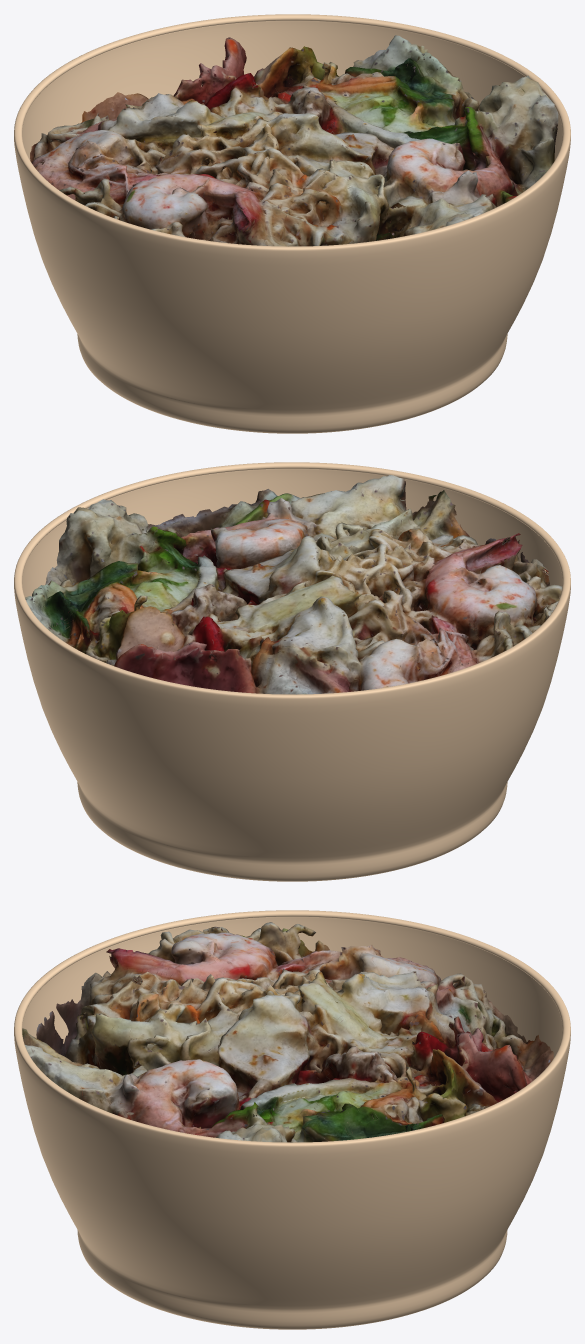
Rendered from noodle_spicy_salad.glb.
3 renders of one model, top to bottom at view 1: azimuth 30°, elevation 25°; view 2: azimuth 150°, elevation 25°; view 3: azimuth 270°, elevation 25°, orthographic.
Visible parts, largest first — view 1: Object_2, Object_4; view 2: Object_2, Object_4; view 3: Object_2, Object_4.
Part boxes in pixels (left/top/right/bottom): Object_2: left=14, top=14, right=570, bottom=433; Object_4: left=30, top=35, right=558, bottom=246; Object_2: left=14, top=462, right=570, bottom=881; Object_4: left=25, top=475, right=562, bottom=694; Object_2: left=14, top=910, right=570, bottom=1329; Object_4: left=22, top=922, right=553, bottom=1142.
Bounding box in the file's own units: 4.29 × 2.07 × 4.29.
2 materials, 1 textured.
